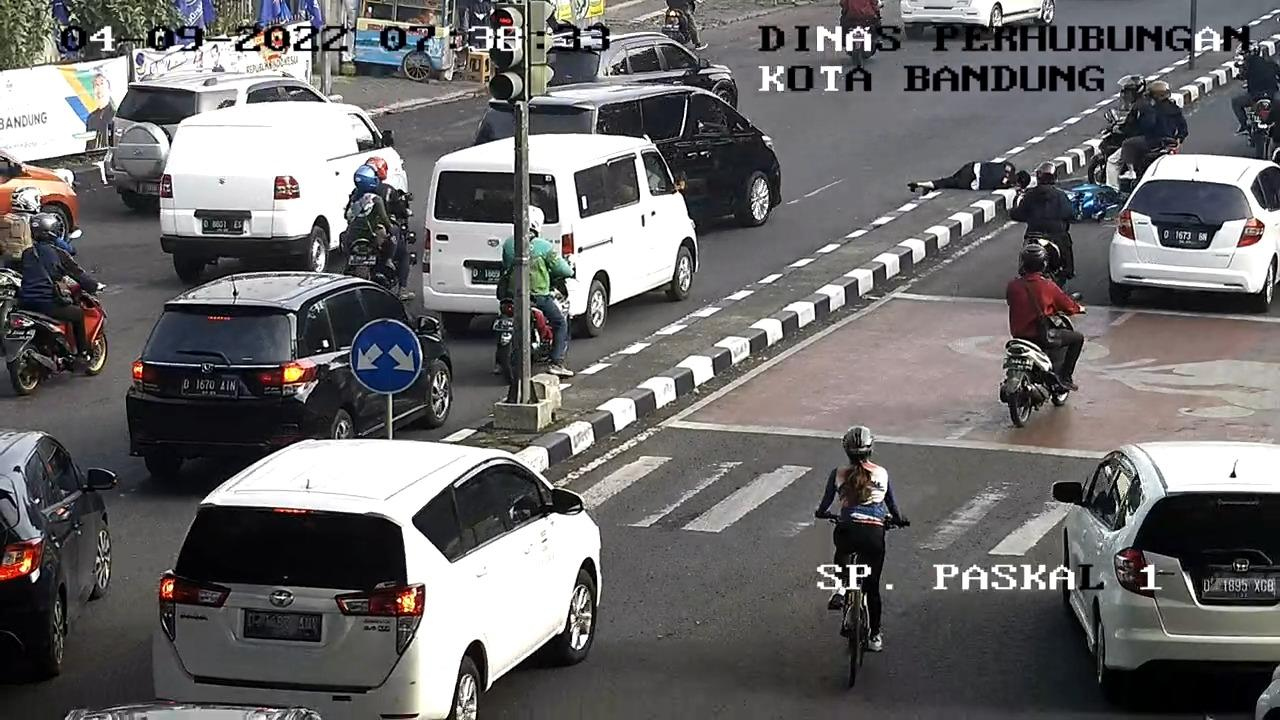accident: (899, 152, 1042, 198)
